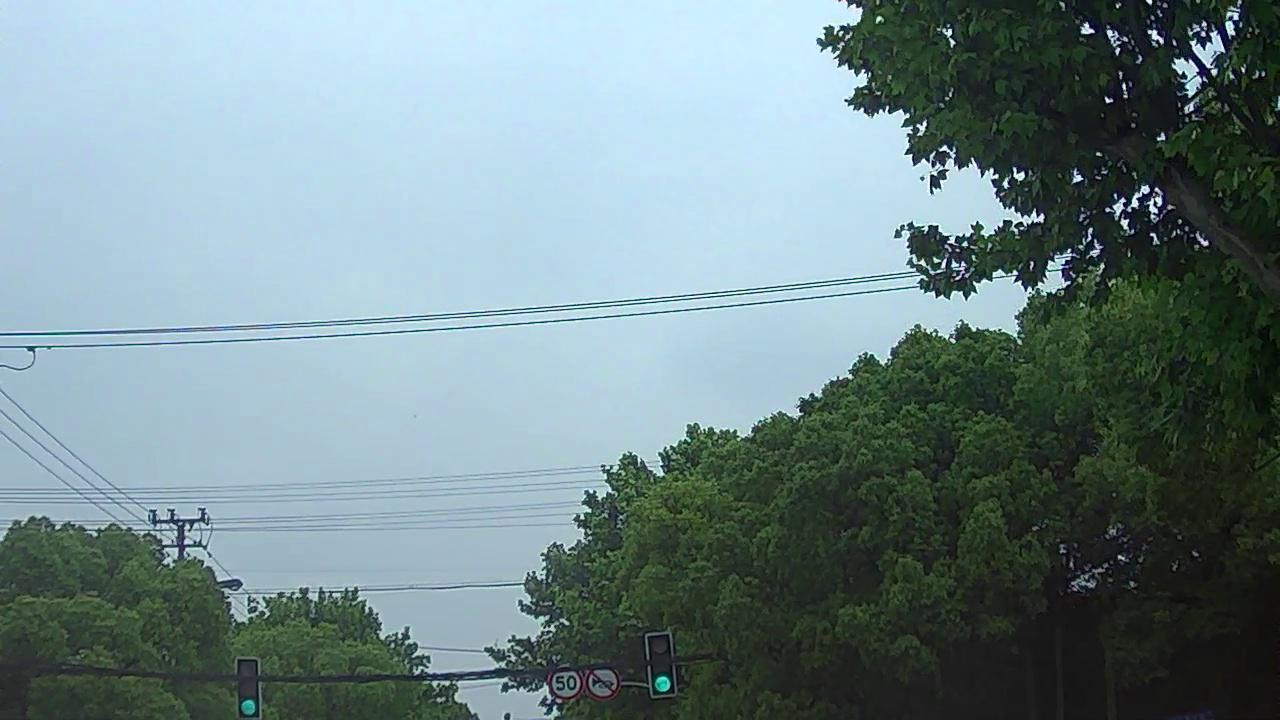traffic_light: (648, 635, 673, 696), (238, 658, 258, 720)
